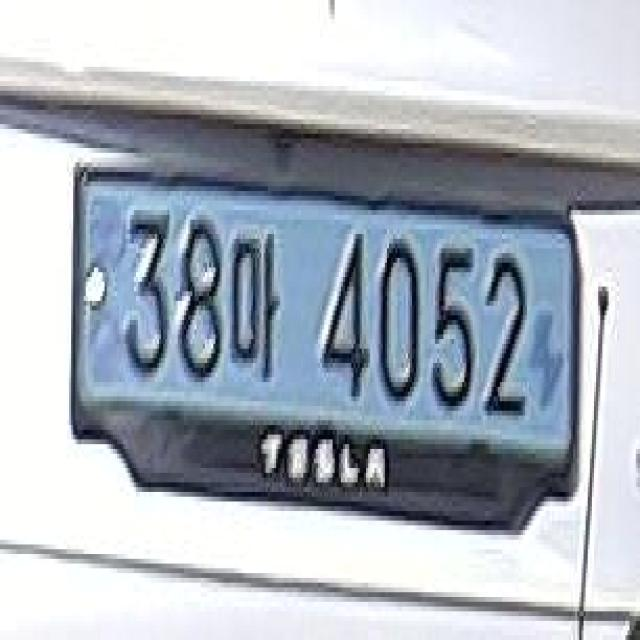EV_plate: (67, 147, 591, 545)
